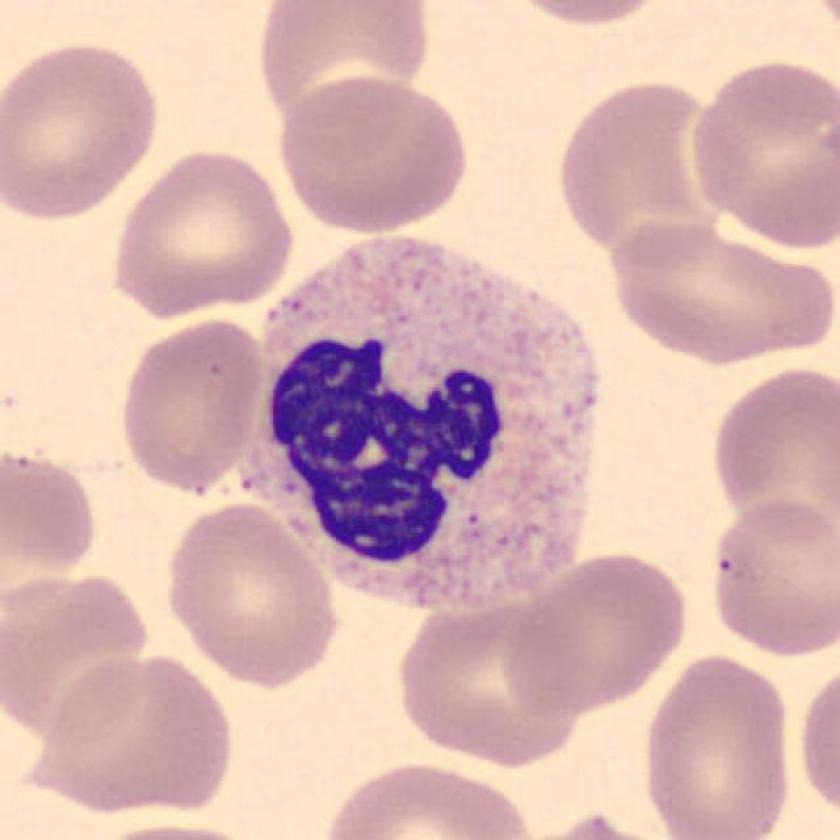neutrophil: (241, 237, 592, 613)
